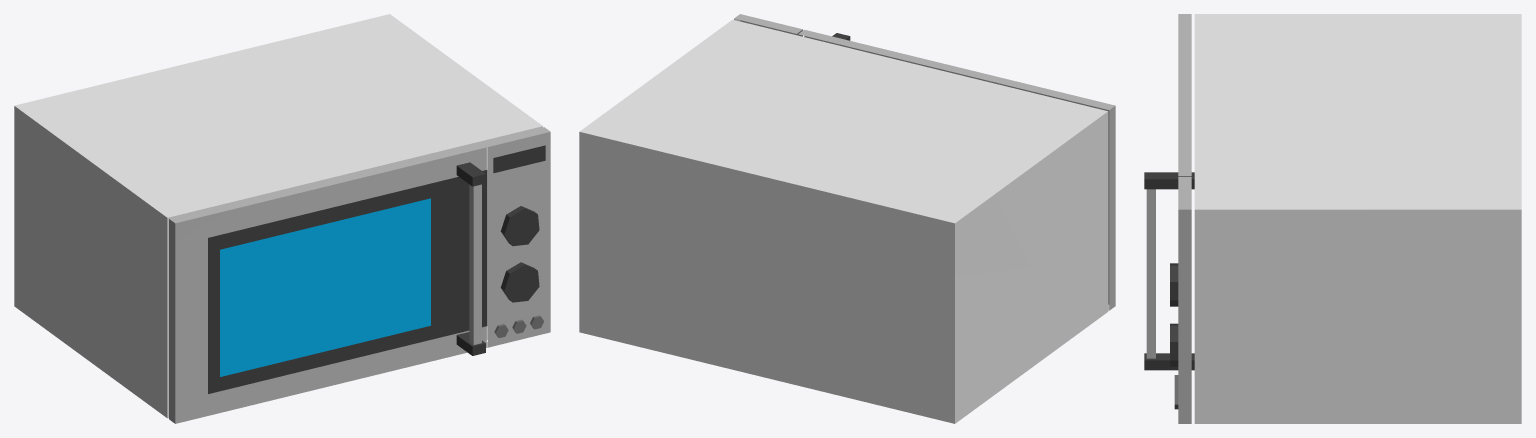
File: Microwave.glb
3 views of the same model, side by side, from view 1: azimuth 30°, elevation 25°; view 2: azimuth 150°, elevation 25°; view 3: azimuth 270°, elevation 25° (orthographic). The views are drawn at different scales.
Parts seen in each view (by area): view 1: microwave_oven_001; view 2: microwave_oven_001; view 3: microwave_oven_001.
Boxes of the visible parts, <box> form: microwave_oven_001: <box>14,14,550,423</box>; microwave_oven_001: <box>579,14,1115,423</box>; microwave_oven_001: <box>1144,14,1521,423</box>.
Size of the model in its own units: 0.5149 by 0.2627 by 0.4197.
1 material, 1 textured.
